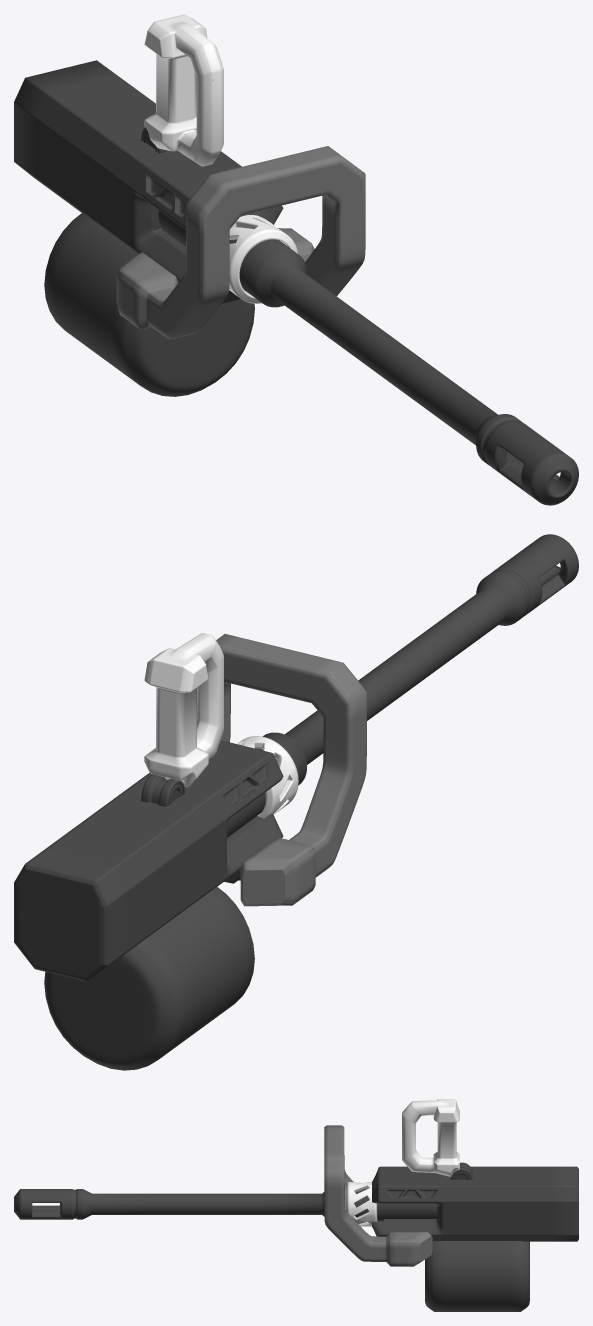
The model's file is Gun_V0.fbx.
The picture shows the model from 3 angles, top to bottom: view 1: azimuth 30°, elevation 25°; view 2: azimuth 150°, elevation 25°; view 3: azimuth 270°, elevation 25°; orthographic projection. The views are drawn at different scales.
Parts seen in each view (by area): view 1: Body, Handle_F, Barrel, Magazine, Handle_B, Ring_0; view 2: Body, Magazine, Handle_F, Barrel, Handle_B, Ring_0; view 3: Body, Barrel, Magazine, Handle_F, Handle_B, Ring_0.
Boxes of the visible parts, x1,y1,x2,y2 form: Body: (14,60,283,303); Handle_F: (116,146,365,339); Barrel: (158,210,578,505); Magazine: (44,213,254,396); Handle_B: (144,14,223,166); Ring_0: (229,215,298,303); Body: (14,740,283,981); Magazine: (44,887,254,1070); Handle_F: (216,634,366,906); Barrel: (227,534,578,837); Handle_B: (144,633,223,787); Ring_0: (237,736,298,818); Body: (372,1162,578,1241); Barrel: (14,1187,437,1221); Magazine: (425,1241,529,1311); Handle_F: (324,1125,432,1266); Handle_B: (402,1099,459,1176); Ring_0: (345,1182,377,1226).
Bounding box in the file's own units: 0.9835 × 1.95 × 4.83.
